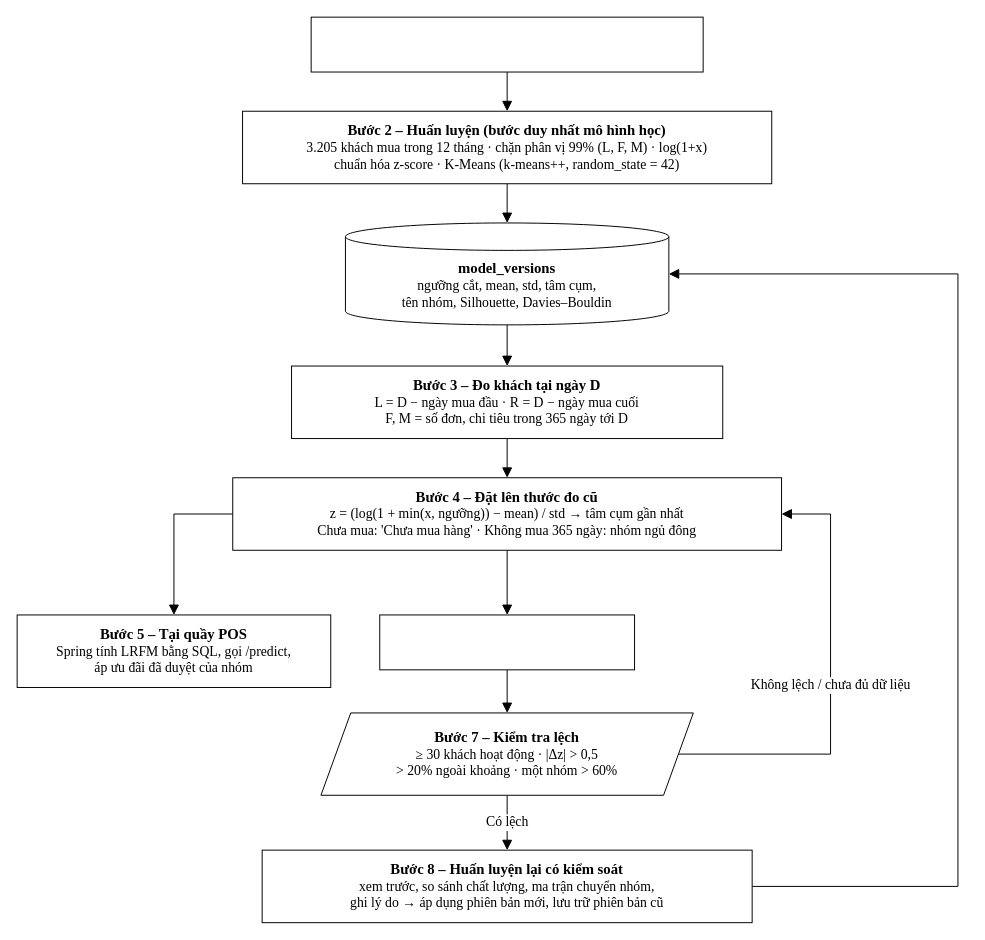
Some shapes in this 985 by 940 pixel diagram are drawn without their labels. Here are the shapes that lost their labels. From the top down, the centre of each, then its label:
the point at 506,44: Bước 1 – Dữ liệu nền OnlineSales, cố định tại ngày tham chiếu 12/01/2021
the point at 507,642: Bước 6 – Xếp lại hằng ngày R và L tăng theo ngày
